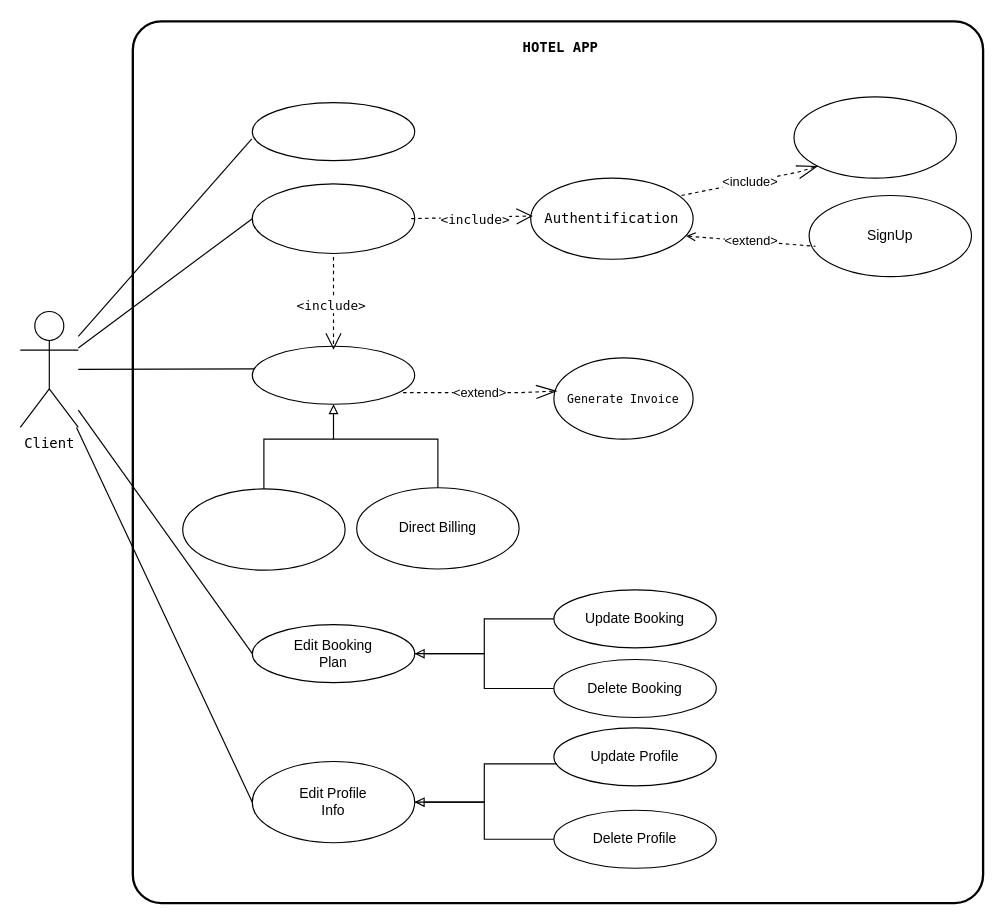
The diagram is 1005 pixels wide and 923 high, and some of its shapes have lost their labels. The centre of each missing label's shape, as x and y in pixels:
"Book a room" goes at (x=333, y=218).
"Credit Card" goes at (x=263, y=529).
"Explore the app" goes at (x=333, y=131).
"Login" goes at (x=874, y=137).
"Payement" goes at (x=333, y=374).
